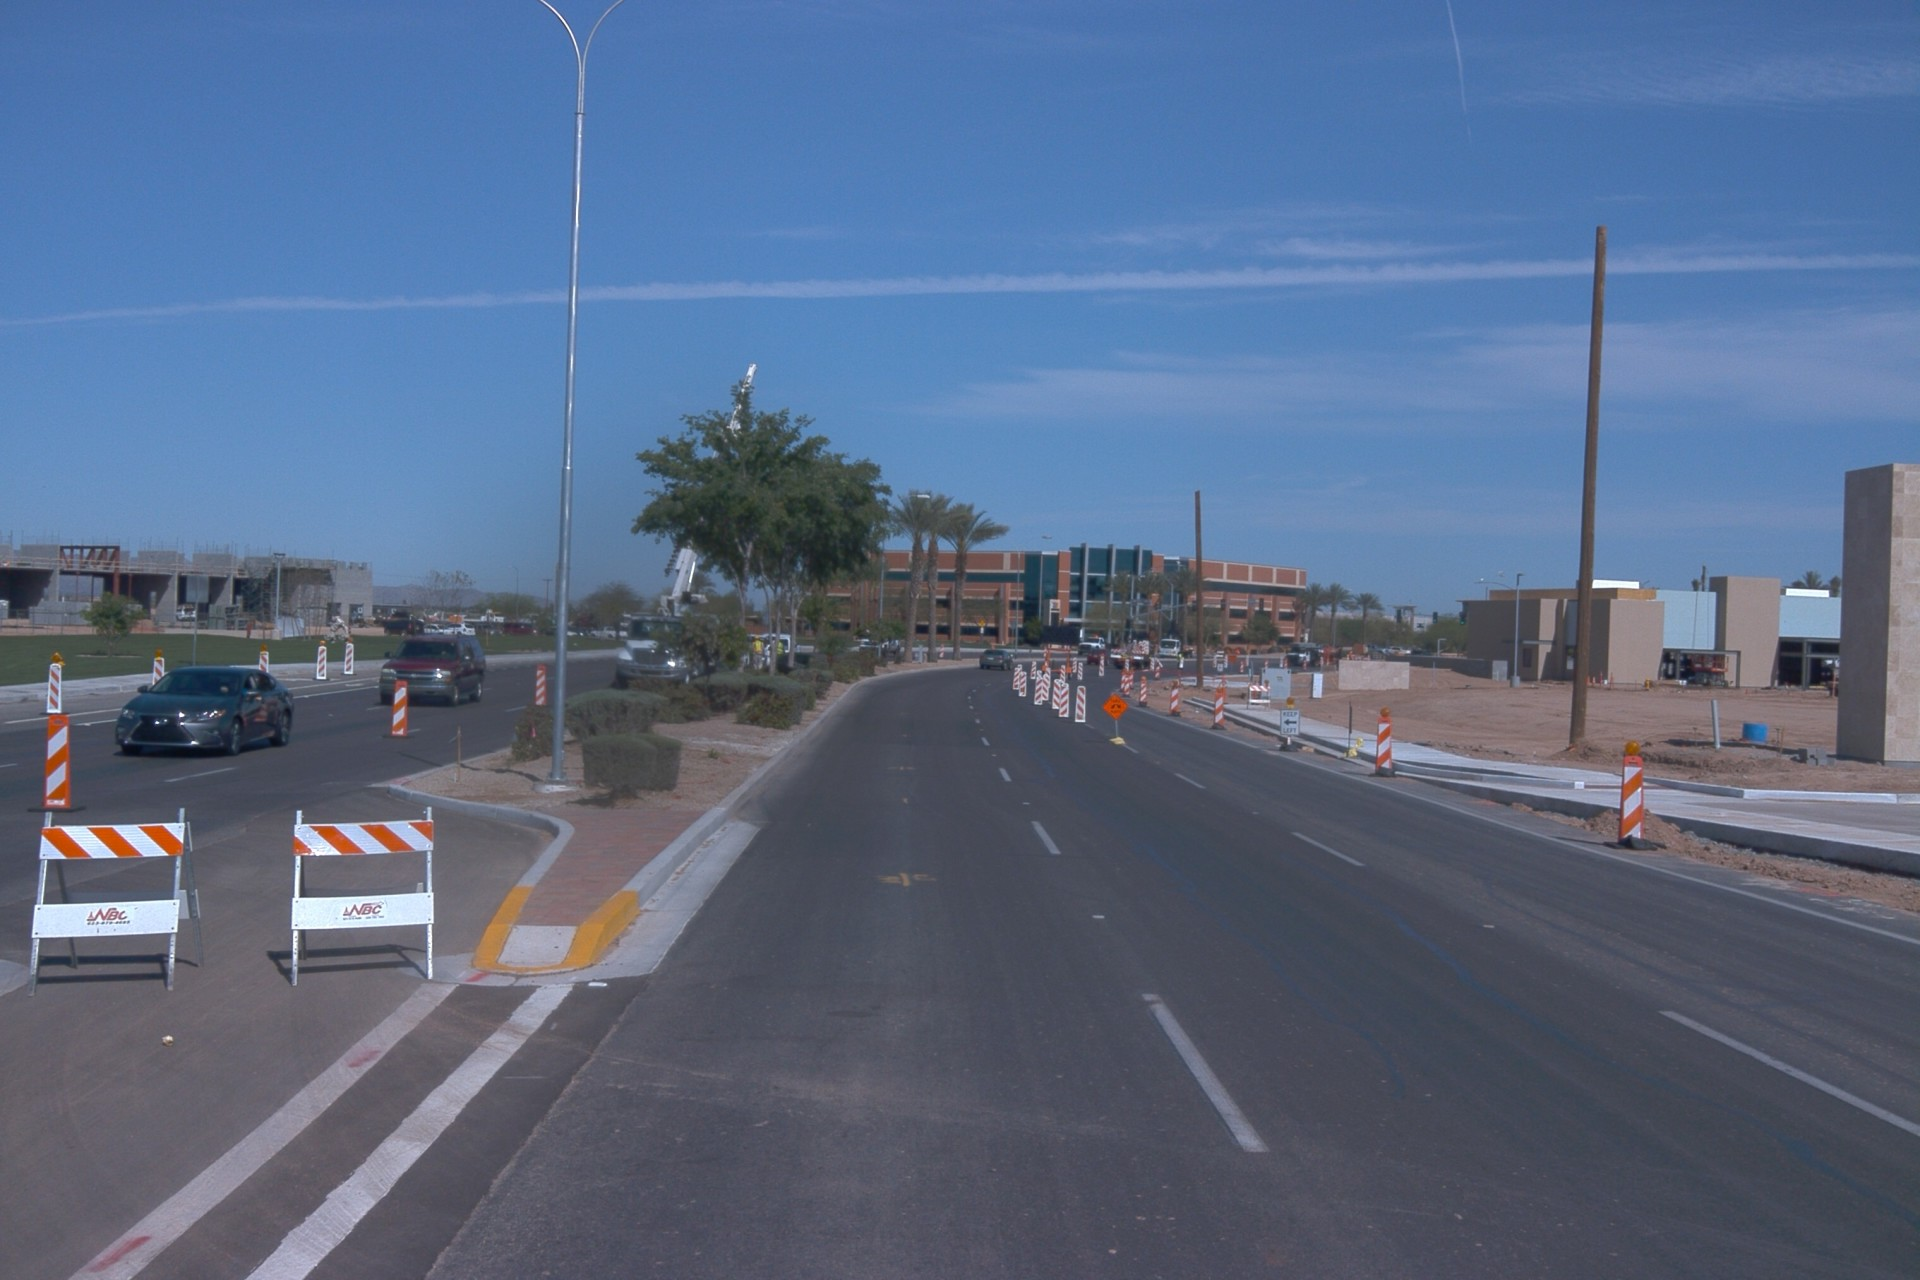TYPE_PEDESTRIAN: (750, 634, 765, 674), (777, 639, 787, 657), (1178, 649, 1185, 666)
TYPE_VEHICLE: (606, 361, 767, 705), (109, 667, 292, 760), (375, 630, 489, 711), (1036, 622, 1083, 685), (1107, 629, 1161, 673), (1283, 642, 1347, 671), (768, 629, 803, 674), (1075, 629, 1123, 659), (857, 630, 904, 658), (381, 618, 427, 640), (1156, 638, 1198, 661), (375, 608, 427, 626), (978, 647, 1014, 673), (1819, 673, 1846, 705), (588, 623, 633, 641), (501, 620, 541, 639), (751, 635, 770, 670), (1083, 646, 1112, 668), (420, 622, 461, 637), (443, 622, 479, 639), (475, 621, 507, 640), (177, 603, 197, 626)
